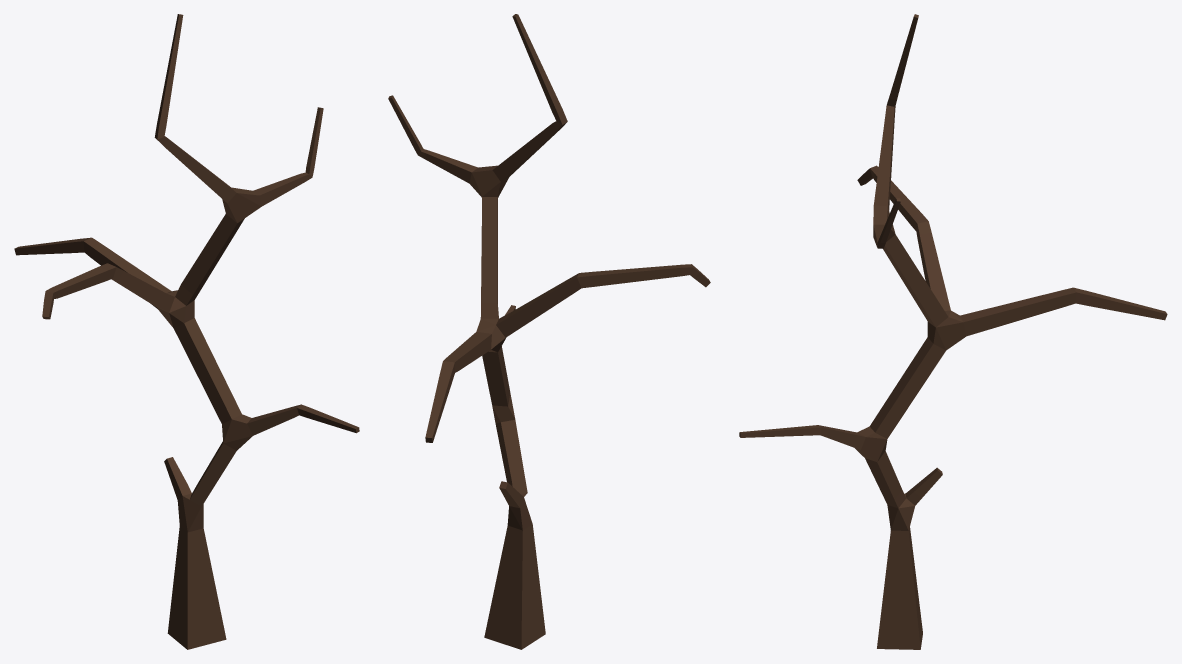
The model's file is dead_tree4.glb.
The picture shows the model from 3 angles, left to right: view 1: azimuth 30°, elevation 25°; view 2: azimuth 150°, elevation 25°; view 3: azimuth 270°, elevation 25°; orthographic projection.
Visible parts, largest first — view 1: Cube.004; view 2: Cube.004; view 3: Cube.004.
Boxes of the visible parts, left/top/right/bottom form: Cube.004: left=14, top=14, right=359, bottom=649; Cube.004: left=388, top=14, right=710, bottom=649; Cube.004: left=739, top=14, right=1167, bottom=649.
Bounding box in the file's own units: 3.44 × 6.83 × 4.26.
